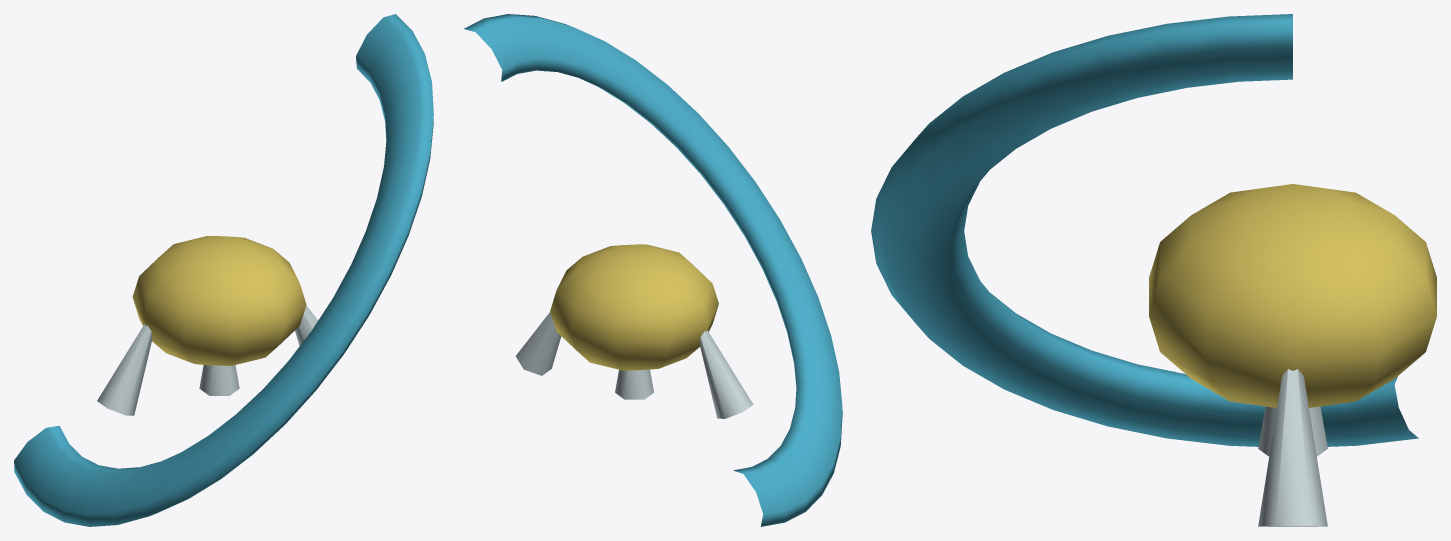
The model's file is heavy_blade.glb.
3 views of the same model, side by side, from view 1: azimuth 30°, elevation 25°; view 2: azimuth 150°, elevation 25°; view 3: azimuth 270°, elevation 25° (orthographic). The views are drawn at different scales.
Parts seen in each view (by area): view 1: heavy_blade_arc, heavy_blade_impact, heavy_blade_shard_0, heavy_blade_shard_1; view 2: heavy_blade_arc, heavy_blade_impact, heavy_blade_shard_0, heavy_blade_shard_2, heavy_blade_shard_1; view 3: heavy_blade_arc, heavy_blade_impact, heavy_blade_shard_2, heavy_blade_shard_1.
Boxes of the visible parts, x1,y1,x2,y2 form: heavy_blade_arc: (14, 14, 433, 526); heavy_blade_impact: (132, 235, 306, 365); heavy_blade_shard_0: (97, 324, 152, 415); heavy_blade_shard_1: (199, 365, 239, 395); heavy_blade_arc: (464, 14, 842, 526); heavy_blade_impact: (550, 244, 718, 370); heavy_blade_shard_0: (700, 330, 753, 418); heavy_blade_shard_2: (515, 312, 561, 375); heavy_blade_shard_1: (615, 369, 653, 399); heavy_blade_arc: (871, 14, 1418, 446); heavy_blade_impact: (1149, 184, 1436, 407); heavy_blade_shard_2: (1258, 369, 1327, 526); heavy_blade_shard_1: (1258, 406, 1327, 456).
Size of what is drawn, in the model's own units: 2.43 by 2.7 by 1.94.
